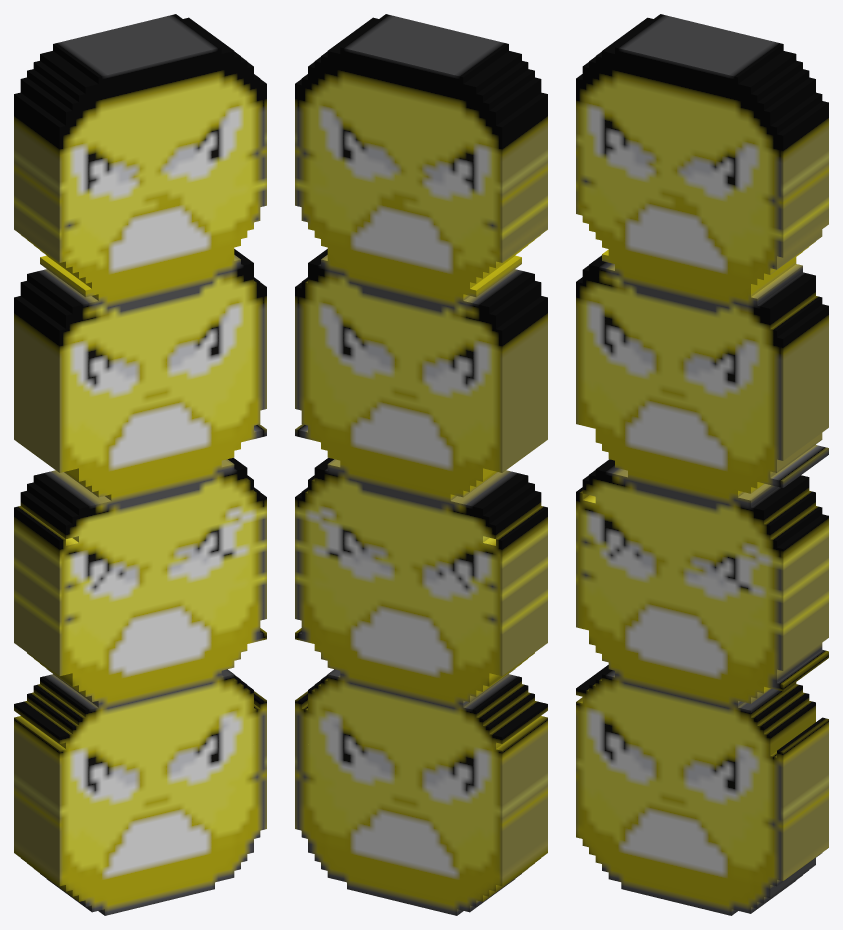
Rendered from boss_cactus.glb.
3 renders of one model, left to right at view 1: azimuth 30°, elevation 25°; view 2: azimuth 150°, elevation 25°; view 3: azimuth 330°, elevation 25°, orthographic.
Parts seen in each view (by area): view 1: cactus_boss_voxel; view 2: cactus_boss_voxel; view 3: cactus_boss_voxel.
Boxes of the visible parts, <box> form: cactus_boss_voxel: <box>14,14,266,915</box>; cactus_boss_voxel: <box>295,14,547,915</box>; cactus_boss_voxel: <box>576,14,828,915</box>.
Bounding box in the file's own units: 1.76 × 6.81 × 0.669.
Materials: 1 (1 with a texture image).
